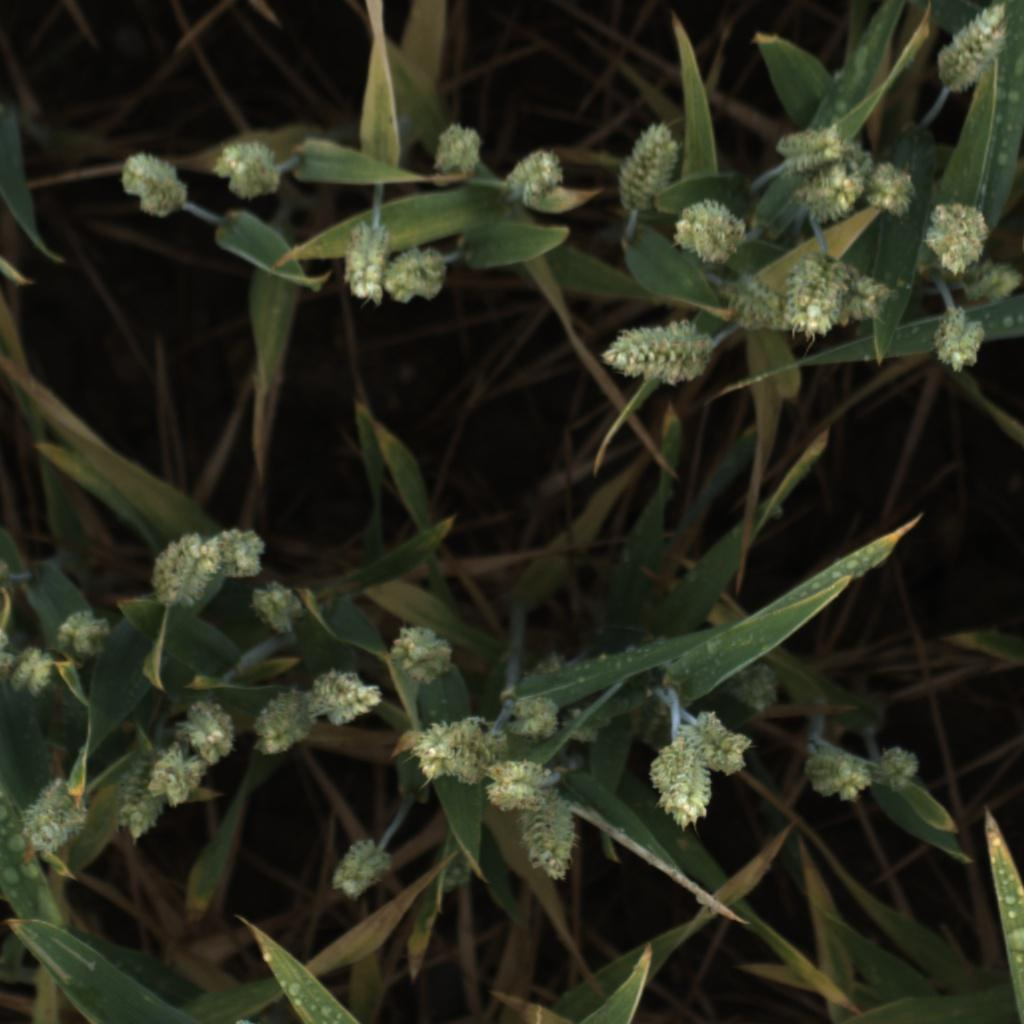0-0: (600, 320, 717, 391), (405, 712, 519, 783), (643, 719, 716, 827), (932, 0, 1012, 92), (613, 116, 681, 214), (143, 528, 222, 611), (774, 118, 883, 178), (780, 255, 853, 343), (14, 778, 90, 855), (920, 202, 997, 276), (114, 149, 192, 222), (669, 198, 752, 266), (303, 667, 386, 728), (524, 794, 579, 886), (388, 620, 460, 688), (338, 216, 392, 306), (209, 138, 283, 203), (249, 685, 315, 757), (798, 163, 868, 228), (383, 240, 451, 306), (687, 712, 755, 778), (327, 835, 395, 900), (502, 685, 571, 749), (109, 750, 158, 839), (174, 697, 238, 765), (501, 144, 567, 209), (800, 745, 875, 802), (723, 273, 792, 334), (927, 306, 985, 376), (485, 756, 556, 811), (429, 118, 487, 183), (146, 742, 202, 807), (249, 575, 308, 633), (960, 252, 1024, 305), (864, 163, 921, 222), (211, 523, 270, 580), (846, 266, 896, 330), (727, 657, 779, 718), (866, 741, 923, 794), (8, 641, 59, 698), (560, 704, 614, 757), (54, 610, 113, 656)
